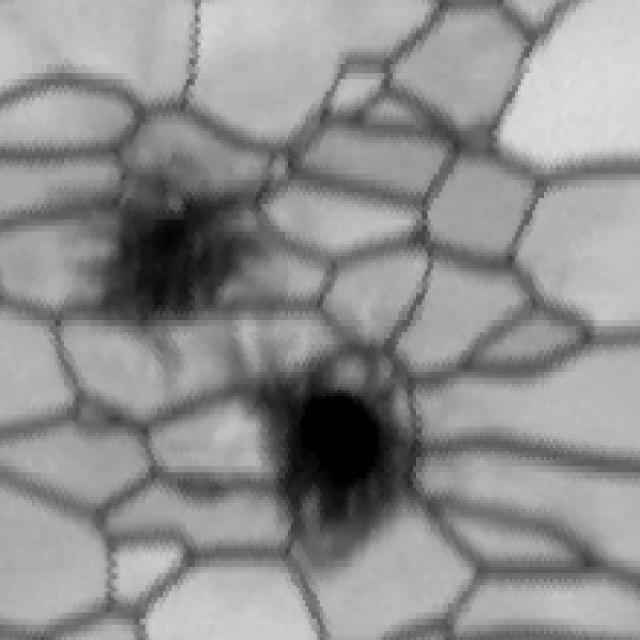good_void: (221, 322, 457, 579), (60, 138, 300, 360)
